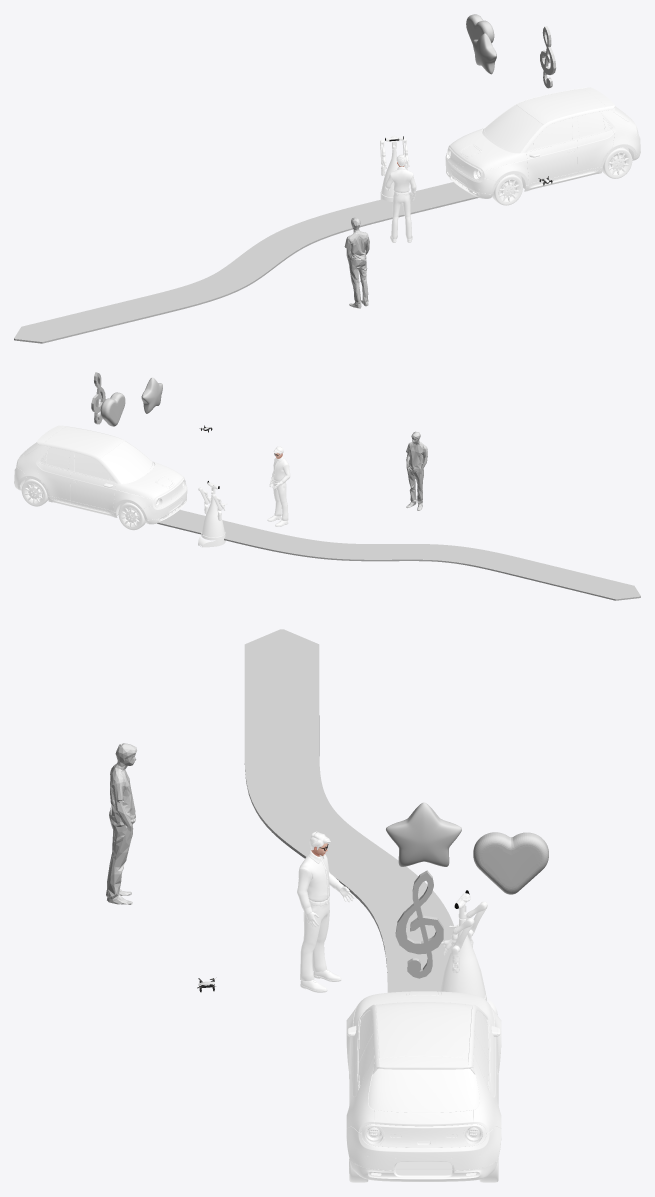
The model's file is whole_scene_toon.glb.
The picture shows the model from 3 angles, top to bottom: view 1: azimuth 30°, elevation 25°; view 2: azimuth 150°, elevation 25°; view 3: azimuth 270°, elevation 25°; orthographic projection. The views are drawn at different scales.
Parts seen in each view (by area): view 1: ego_trajectory, CarBodyModel, GlassesModel, pedestrian, RoofPlasticModel, FrontBajosPalitos_Plastic25_0.001, WheelFrameModel, WheelRubberModel, OutfitBottom, BodyFrontBackPlasticModel, star, OutfitTop (+2 smaller); view 2: ego_trajectory, CarBodyModel, GlassesModel, pedestrian, RoofPlasticModel, FrontBajosPalitos_Plastic25_0.001, heart, WheelFrameModel, WheelRubberModel, body, BodyFrontBackPlasticModel, star (+3 smaller); view 3: ego_trajectory, GlassesModel, CarBodyModel, heart, pedestrian, star, RoofPlasticModel, BodyFrontBackPlasticModel, music, OutfitBottom, FrontBajosPalitos_Plastic25_0.001, OutfitTop (+2 smaller).
Boxes of the visible parts, x1,y1,x2,y2 form: ego_trajectory: (14,182,478,343); CarBodyModel: (445,110,640,193); GlassesModel: (485,88,630,153); pedestrian: (344,217,369,308); RoofPlasticModel: (482,87,614,157); FrontBajosPalitos_Plastic25_0.001: (446,150,640,198); WheelFrameModel: (498,152,629,202); WheelRubberModel: (492,147,632,205); OutfitBottom: (391,191,412,239); BodyFrontBackPlasticModel: (446,125,638,180); star: (472,33,496,74); OutfitTop: (385,167,416,196); ego_trajectory: (138,510,640,600); CarBodyModel: (14,445,187,519); GlassesModel: (23,426,152,483); pedestrian: (406,431,427,510); RoofPlasticModel: (37,425,154,487); FrontBajosPalitos_Plastic25_0.001: (14,481,186,524); heart: (100,392,125,426); WheelFrameModel: (24,483,139,527); WheelRubberModel: (21,478,145,530); body: (201,494,224,537); BodyFrontBackPlasticModel: (15,459,186,507); star: (141,377,162,413); ego_trajectory: (244,629,454,992); GlassesModel: (359,1002,488,1112); CarBodyModel: (346,991,501,1170); heart: (473,832,548,894); pedestrian: (106,743,137,904); star: (386,802,461,866); RoofPlasticModel: (347,1004,500,1089); BodyFrontBackPlasticModel: (361,991,486,1147); music: (395,870,443,978); OutfitBottom: (300,897,329,981); FrontBajosPalitos_Plastic25_0.001: (349,1074,498,1181); OutfitTop: (297,850,343,914).
Bounding box in the file's own units: 14.98 × 3.46 × 4.96.
Materials: 33 (3 with a texture image).
